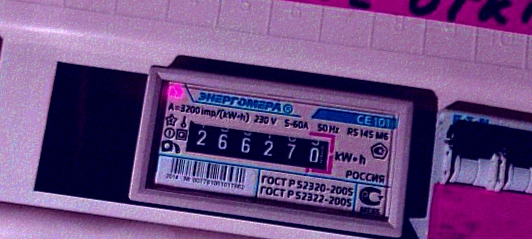0: (307, 146, 321, 164)
2: (193, 127, 209, 147), (261, 138, 275, 157)
6: (216, 132, 230, 151), (239, 136, 253, 155)
7: (284, 141, 298, 161)
screen: (174, 110, 342, 182)
